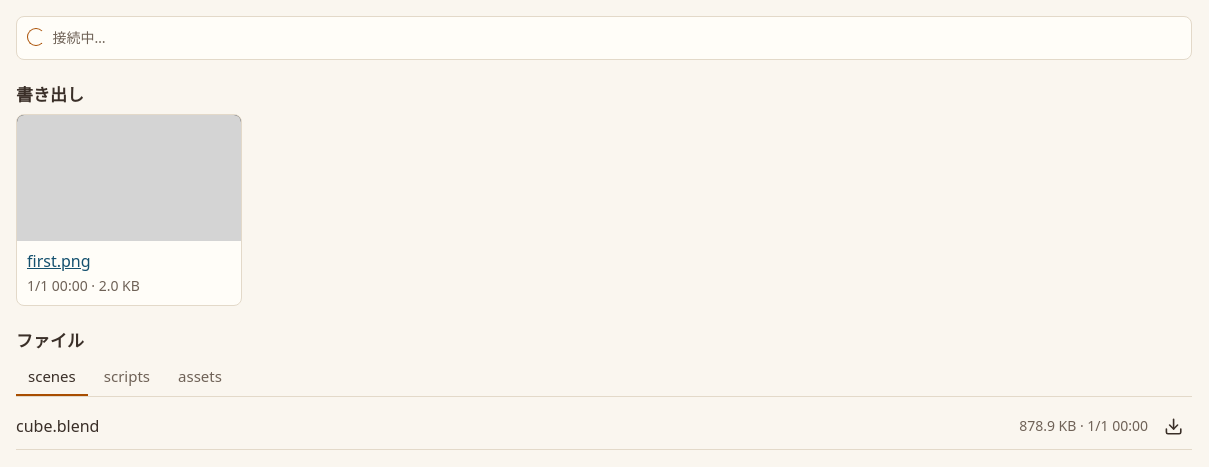
Test case: Home › lists other base camp files with download links
The width and height of the screenshot is (1209, 467).
Click the tab "assets". click: (200, 378)
box: [166,360,234,396]
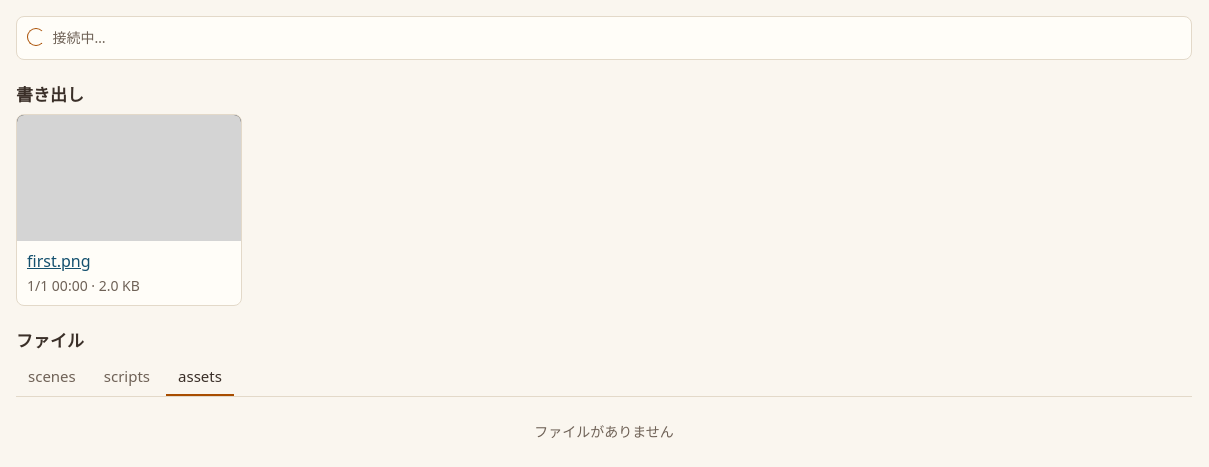
Now the text "ファイルがありません" is shown, box [534,422,674,441]
